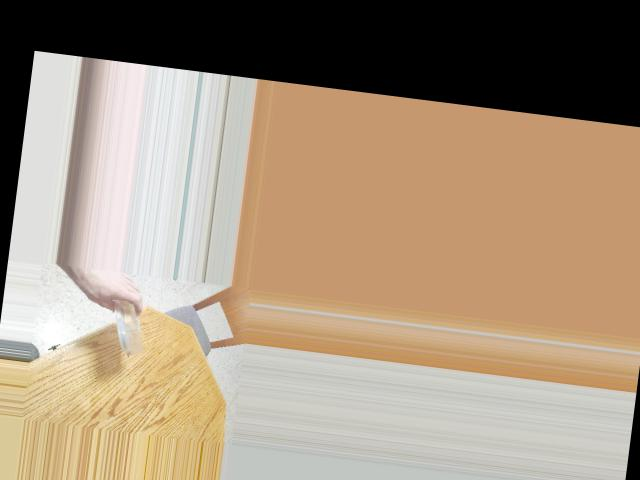cheese: (107, 298, 152, 349)
